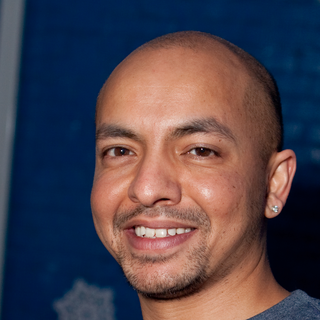eye: (176, 142, 224, 164), (99, 143, 140, 163)
